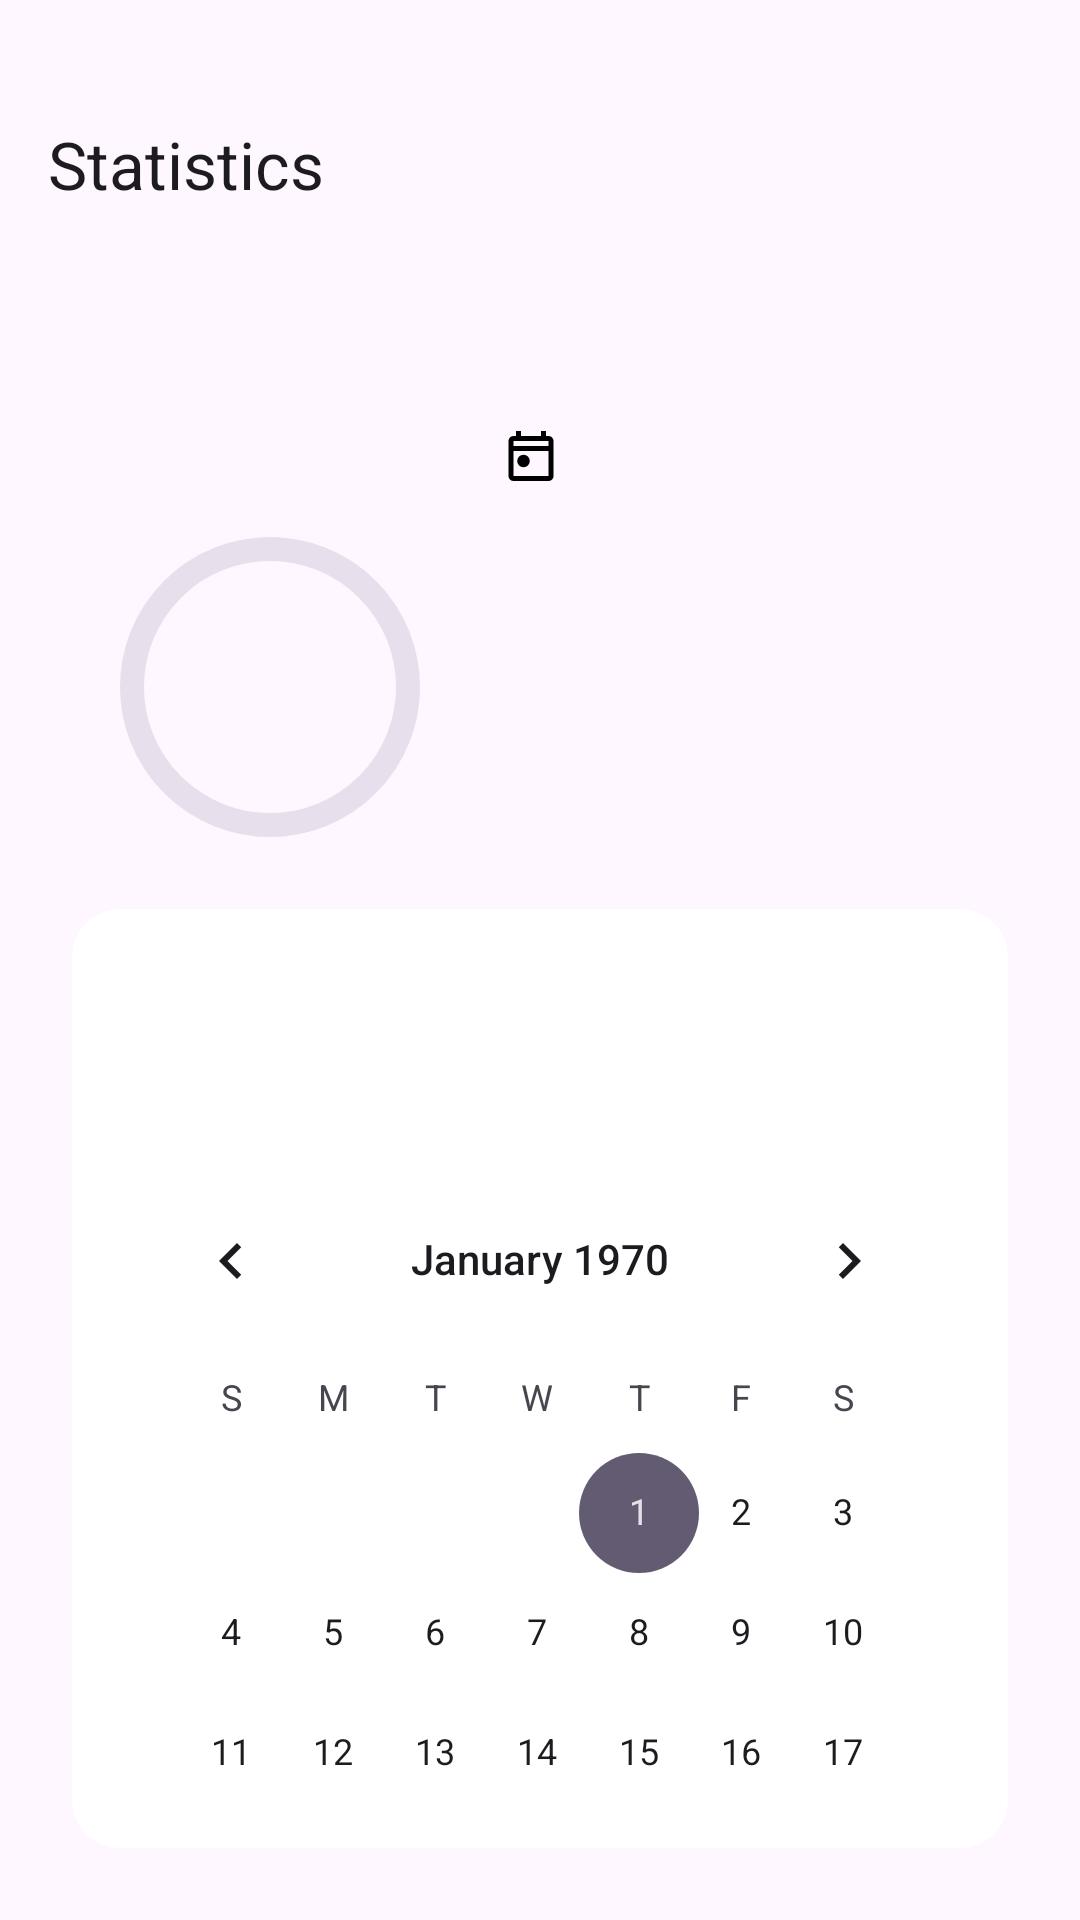

Point at icon controls on the screen. Image size 1080 x 1920, points as [x,y].
today: [531,456]
